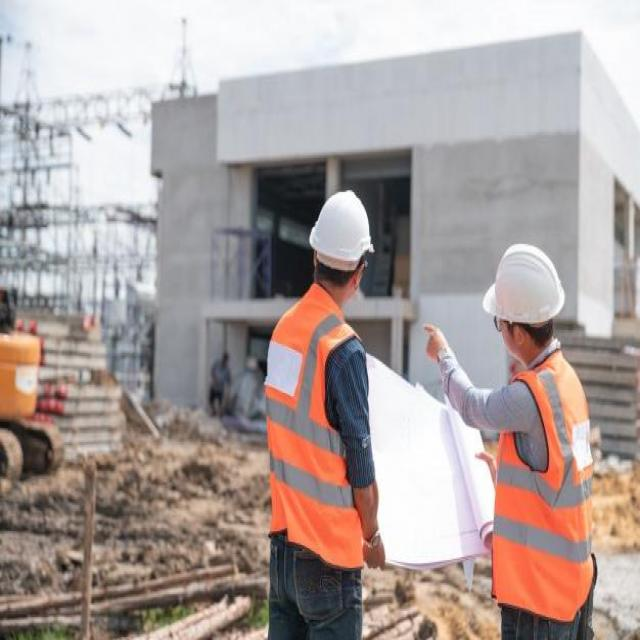Reflective-Jacket: (262, 293, 369, 568), (488, 354, 598, 616)
Safety-Helmet: (478, 232, 570, 332), (305, 182, 378, 274)
